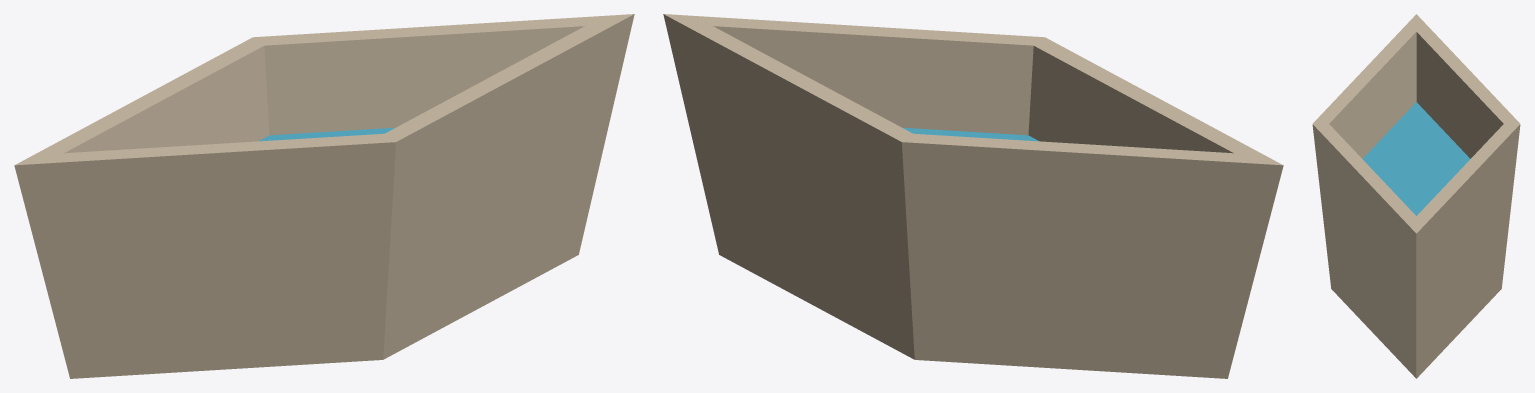
Rendered from water_trough_stone.fbx.
3 renders of one model, left to right at view 1: azimuth 30°, elevation 25°; view 2: azimuth 150°, elevation 25°; view 3: azimuth 270°, elevation 25°, orthographic. The views are drawn at different scales.
Visible parts, largest first — view 1: water_trough_stone; view 2: water_trough_stone; view 3: water_trough_stone.
Boxes of the visible parts, x1=… form: water_trough_stone: x1=14, y1=14, x2=634, y2=378; water_trough_stone: x1=663, y1=14, x2=1283, y2=378; water_trough_stone: x1=1312, y1=14, x2=1520, y2=378.
Bounding box in the file's own units: 2 × 0.7 × 0.8.
